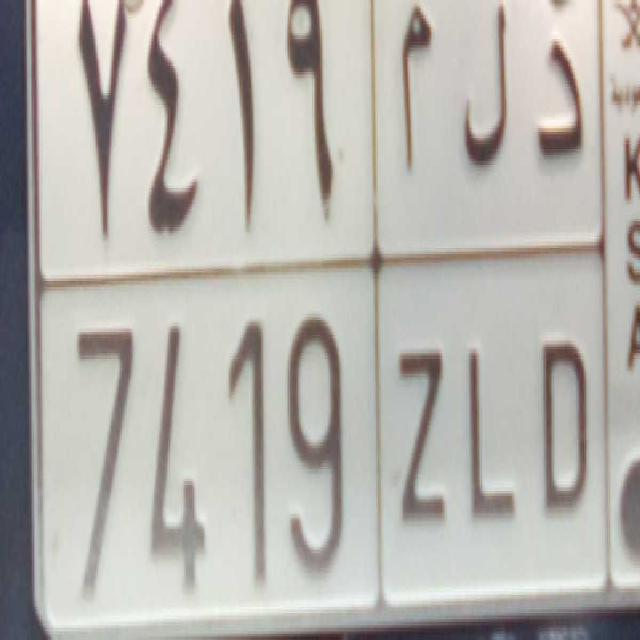license_plate: (66, 273, 604, 640)
